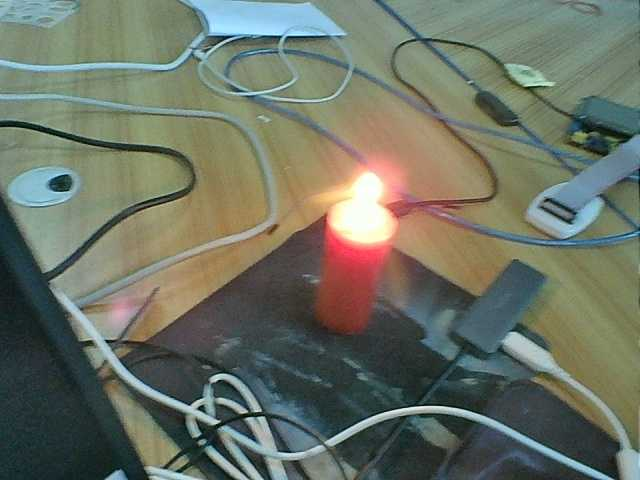candle: (319, 223, 394, 341)
fire: (345, 172, 387, 227)
